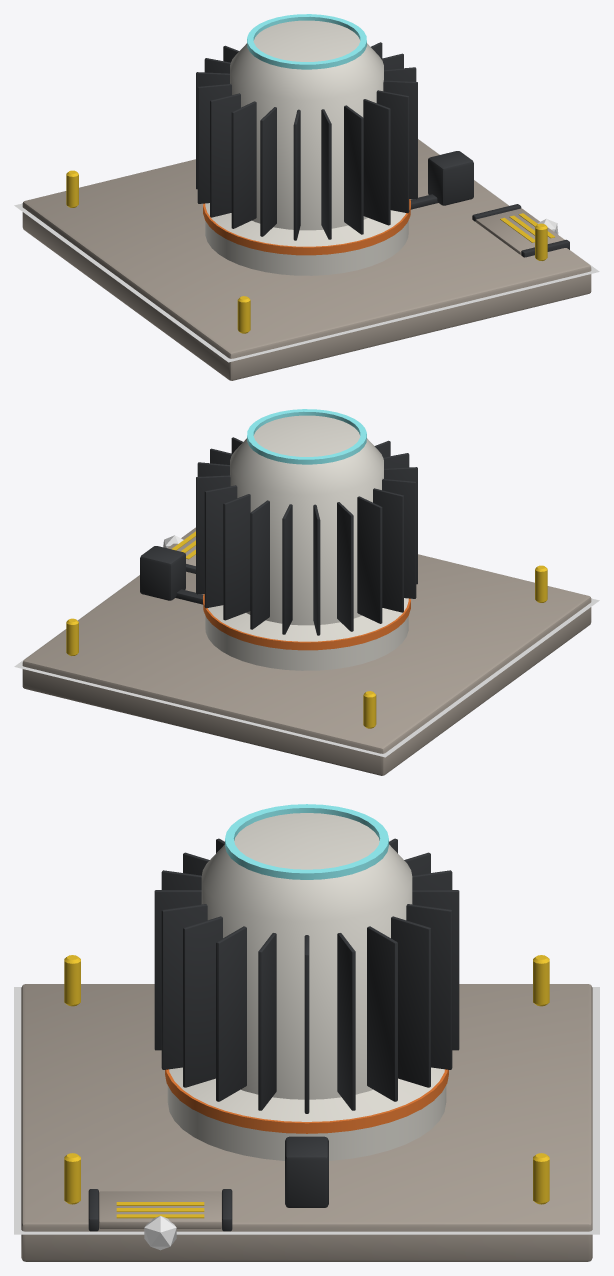
File: stirling_generator_2x2.gltf
3 renders of one model, top to bottom at view 1: azimuth 30°, elevation 25°; view 2: azimuth 150°, elevation 25°; view 3: azimuth 270°, elevation 25°, orthographic. The views are drawn at different scales.
Parts seen in each view (by area): view 1: StirlingGenerator, %P%Footprint, %V%AnchorOut+; view 2: StirlingGenerator, %P%Footprint, %V%AnchorOut+; view 3: StirlingGenerator, %P%Footprint, %V%AnchorOut+, %P%AnchorOut.
Boxes of the visible parts, left/top/right/bottom form: StirlingGenerator: left=22, top=14, right=591, bottom=380; %P%Footprint: left=14, top=139, right=599, bottom=362; %V%AnchorOut+: left=472, top=204, right=569, bottom=257; StirlingGenerator: left=22, top=409, right=591, bottom=775; %P%Footprint: left=14, top=575, right=599, bottom=757; %V%AnchorOut+: left=167, top=527, right=195, bottom=573; StirlingGenerator: left=21, top=804, right=592, bottom=1261; %P%Footprint: left=14, top=987, right=599, bottom=1234; %V%AnchorOut+: left=88, top=1189, right=232, bottom=1231; %P%AnchorOut: left=144, top=1216, right=176, bottom=1250.
Bounding box in the file's own units: 4.12 × 2.3 × 4.
